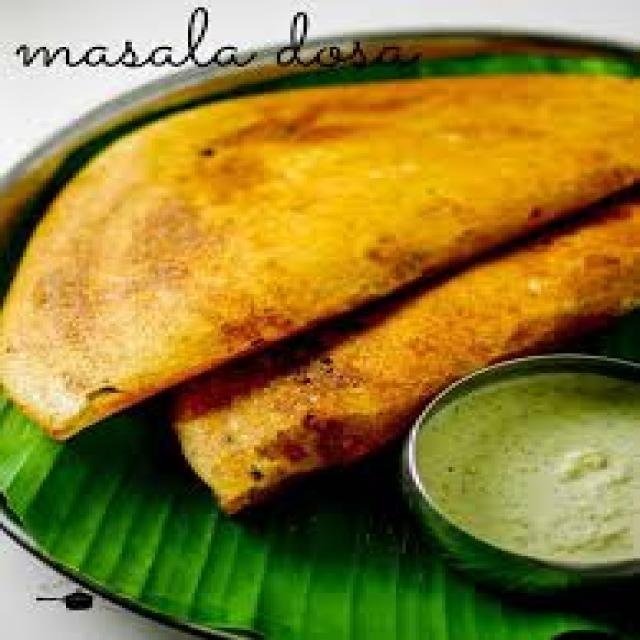DOSA: (0, 74, 637, 428), (176, 193, 637, 520)
